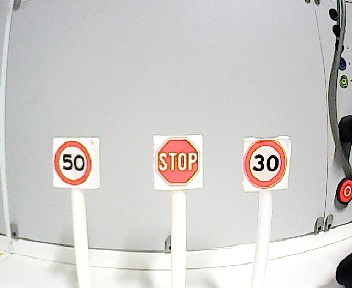30-bord: (244, 141, 287, 189)
50-bord: (54, 137, 94, 186)
stop-bord: (155, 137, 201, 186)
